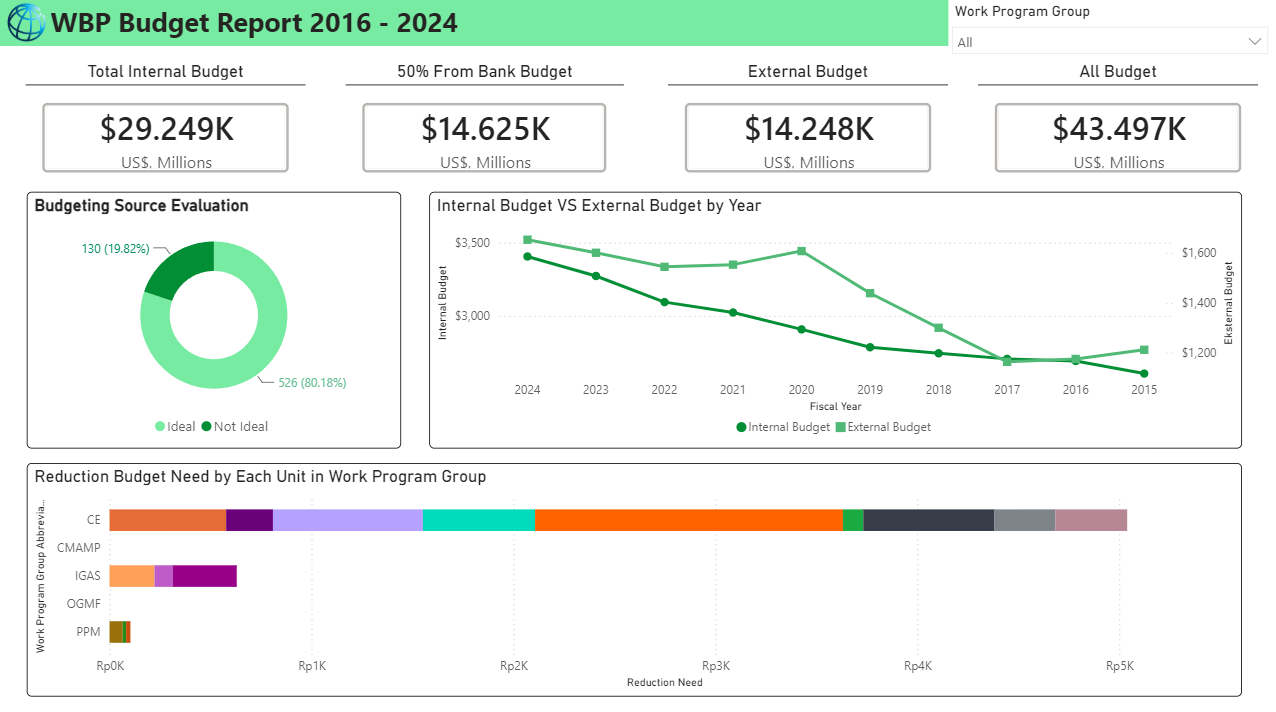

This screenshot's page, from the dashboard's own definition file:
{"tool":"powerbi","page":{"name":"Page 1","canvas":[1280,720],"ordinal":0},"visuals":[{"type":"cardVisual","title":"Total Internal Budget","fields":{"Data":["Sum(wbp_insight.Bank Budget (BB) (US$, Millions))"]},"box":[28,62,280,130],"z":0},{"type":"cardVisual","title":"50% From Bank Budget","fields":{"Data":["wbp_insight.50 % bunk budget"]},"box":[348,62,278,130],"z":1000},{"type":"cardVisual","title":"External Budget","fields":{"Data":["Sum(wbp_insight.External Budget)"]},"box":[670,62,280,130],"z":2000},{"type":"cardVisual","title":"All Budget","fields":{"Data":["wbp_insight.All Budget"]},"box":[980,62,280,130],"z":3000},{"type":"donutChart","title":"Budgeting Source Evaluation","fields":{"Category":["wbp_insight.Funding Source Evaluation"],"Y":["CountNonNull(wbp_insight.Unit)"]},"box":[29.3,193.2,374.2,256.8],"z":4000},{"type":"lineChart","title":"Internal Budget VS External Budget by Year","fields":{"Category":["wbp_insight.Fiscal Year"],"Y":["Sum(wbp_insight.Bank Budget (BB) (US$, Millions))"],"Y2":["Sum(wbp_insight.External Budget)"]},"box":[431.7,193.2,813.2,256.8],"z":5000},{"type":"barChart","title":"Reduction Budget Need by Each Unit in Work Program Group","fields":{"Category":["wbp_insight.Work Program Group Abbreviation"],"Y":["wbp_insight.Reduction Need"],"Series":["wbp_insight.Unit"]},"box":[29.3,464.7,1215.5,233.6],"z":6000},{"type":"slicer","fields":{"Values":["wbp_insight.Work Program Group"]},"box":[944,0,336,62],"z":7000},{"type":"textbox","box":[0,0,950,48.3],"z":8000},{"type":"image","box":[0,0,56.2,48.8],"z":8001}]}

Visuals, with their boxes in screenshot pixels (x1, y1, x2, y2), scaled from the page's 1280x720 canvas onto the 1276x712 screenshot:
"Total Internal Budget" cardVisual: region(28, 61, 307, 190)
"50% From Bank Budget" cardVisual: region(347, 61, 624, 190)
"External Budget" cardVisual: region(668, 61, 947, 190)
"All Budget" cardVisual: region(977, 61, 1256, 190)
"Budgeting Source Evaluation" donutChart: region(29, 191, 402, 445)
"Internal Budget VS External Budget by Year" lineChart: region(430, 191, 1241, 445)
"Reduction Budget Need by Each Unit in Work Program Group" barChart: region(29, 460, 1241, 691)
slicer - wbp_insight.Work Program Group: region(941, 0, 1275, 61)
textbox: region(0, 0, 947, 48)
image: region(0, 0, 56, 48)
